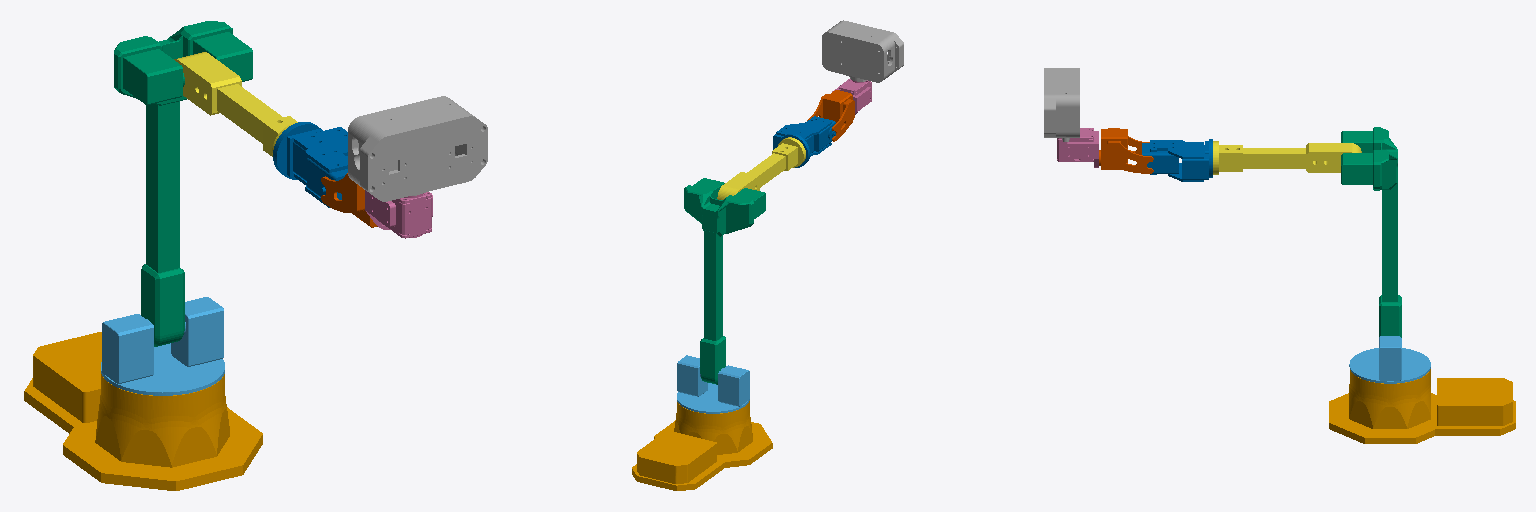
robot.urdf — wx250s_6dof:
<?xml version='1.0' encoding='utf-8'?>
<robot name="wx250s_6dof">
    <link name="430-Base-v3">
        <inertial>
            <origin xyz="2.995596892718282e-07 0.03198516362439753 0.026450259235056835" rpy="0.0 0.0 0.0" />
            <mass value="0.5387615553440656" />
            <inertia ixx="0.001955029708965932" iyy="0.0006455019526522305" izz="0.0021927881018331927" ixy="-1.9751568044998326e-08" iyz="0.00014580866189939276" ixz="5.870050808056935e-10" />
        </inertial>
        <visual name="430-Base-v3">
            <origin xyz="0.0 0.0 0.0" rpy="0.0 0.0 0.0" />
            <geometry>
                <mesh filename="meshes/430-Base-v3.stl" scale="0.001 0.001 0.001" />
            </geometry>
        </visual>
        <collision name="430-Base-v3">
            <origin xyz="0.0 0.0 0.0" rpy="0.0 0.0 0.0" />
            <geometry>
                <mesh filename="meshes/430-Base-v3.stl" scale="0.001 0.001 0.001" />
            </geometry>
        </collision>
    </link>

    <joint name="waist" type="revolute">
        <origin xyz="9.457430695284461e-18 -2.637399261832539e-17 0.06899999988078945" rpy="1.24568280002494e-17 -1.8140360346504614e-19 -1.5707963267948963" />
        <parent link="430-Base-v3" />
        <child link="430-Dual-Shoulder-v2" />
        <axis xyz="-1.5407439555097887e-33 0.0 1.0" />
        <limit effort="10" lower="-6.35" upper="0.00" velocity="3.141592653589793" />
        <dynamics friction="0.1" />
    </joint>

    <transmission name="trans_waist">
        <type>transmission_interface/SimpleTransmission</type>
        <joint name="waist">
            <hardwareInterface>hardware_interface/EffortJointInterface</hardwareInterface>
        </joint>
        <actuator name="waist_motor">
            <mechanicalReduction>1</mechanicalReduction>
        </actuator>
    </transmission>

    <link name="430-Dual-Shoulder-v2">
        <inertial>
            <origin xyz="2.6650681952901293e-15 2.3631306102599427e-10 0.0224742351953325" rpy="0.0 -0.0 -1.1869459682199748e-66" />
            <mass value="0.06870346818902391" />
            <inertia ixx="8.670474618526782e-05" iyy="3.1331865772789617e-05" izz="8.215049958364318e-05" ixy="2.8308109709091504e-17" iyz="2.9976861366066895e-13" ixz="2.3967571416710034e-18" />
        </inertial>
        <visual name="430-Dual-Shoulder-v2">
            <origin xyz="-5.376165769455099e-08 -5.230514688037147e-11 1.192104814862205e-10" rpy="1.8140360346504147e-19 1.2456828000249402e-17 1.5707963267948963" />
            <geometry>
                <mesh filename="meshes/430-Dual-Shoulder-v2.stl" scale="0.001 0.001 0.001" />
            </geometry>
        </visual>
        <collision name="430-Dual-Shoulder-v2">
            <origin xyz="-5.376165769455099e-08 -5.230514688037147e-11 1.192104814862205e-10" rpy="1.8140360346504147e-19 1.2456828000249402e-17 1.5707963267948963" />
            <geometry>
                <mesh filename="meshes/430-Dual-Shoulder-v2.stl" scale="0.001 0.001 0.001" />
            </geometry>
        </collision>
    </link>

    <joint name="shoulder" type="revolute">
        <origin xyz="-6.357687571391029e-35 0.013999999999999999 0.04125" rpy="-1.1869459682199748e-66 -1.5707963267948966 0" />
        <parent link="430-Dual-Shoulder-v2" />
        <child link="UA---6---WX-250-v2" />
        <axis xyz="7.703719777548943e-34 -1.0 -4.898963060357343e-35" />
        <limit effort="20" lower="-1.92" upper="1.70" velocity="3.141592653589793" />
        <dynamics friction="0.1" />
    </joint>

    <transmission name="trans_shoulder">
        <type>transmission_interface/SimpleTransmission</type>
        <joint name="shoulder">
            <hardwareInterface>hardware_interface/EffortJointInterface</hardwareInterface>
        </joint>
        <actuator name="shoulder_motor">
            <mechanicalReduction>1</mechanicalReduction>
        </actuator>
    </transmission>

    <link name="UA---6---WX-250-v2">
        <inertial>
            <origin xyz="0.17871412047632965 -0.013999999796360843 -0.01519758206419477" rpy="0.0 -0.0 0.0" />
            <mass value="0.14814385180189243" />
            <inertia ixx="0.00013892970887386836" iyy="0.0012574373880540075" izz="0.0012836246920317571" ixy="-6.432349401946372e-12" iyz="-2.801941239321463e-13" ixz="0.00015683714963510493" />
        </inertial>
        <visual name="UA---6---WX-250-v2">
            <origin xyz="1.192264242888541e-10 -0.01399999982164303 -0.0002499999999996749" rpy="1.5707963267948966 3.7470027081099087e-16 1.5707963267948966" />
            <geometry>
                <mesh filename="meshes/UA---6---WX-250-v2.stl" scale="0.001 0.001 0.001" />
            </geometry>
        </visual>
        <collision name="UA---6---WX-250-v2">
            <origin xyz="1.192264242888541e-10 -0.01399999982164303 -0.0002499999999996749" rpy="1.5707963267948966 3.7470027081099087e-16 1.5707963267948966" />
            <geometry>
                <mesh filename="meshes/UA---6---WX-250-v2.stl" scale="0.001 0.001 0.001" />
            </geometry>
        </collision>
    </link>

    <joint name="elbow" type="revolute">
        <origin xyz="0.25 -0.027999999999999997 -0.05" rpy="3.141592653589793 -0.0 0.0" />
        <parent link="UA---6---WX-250-v2" />
        <child link="SIMPLIFIED---WXA-250-6DOF-Upper-Forearm-v3" />
        <axis xyz="-7.703719777548943e-34 -1.0 -4.898963095872863e-35" />
        <limit effort="15" lower="-2.13" upper="1.60" velocity="3.141592653589793" />
        <dynamics friction="0.1" />
    </joint>

    <transmission name="trans_elbow">
        <type>transmission_interface/SimpleTransmission</type>
        <joint name="elbow">
            <hardwareInterface>hardware_interface/EffortJointInterface</hardwareInterface>
        </joint>
        <actuator name="elbow_motor">
            <mechanicalReduction>1</mechanicalReduction>
        </actuator>
    </transmission>

    <link name="SIMPLIFIED---WXA-250-6DOF-Upper-Forearm-v3">
        <inertial>
            <origin xyz="-8.438763210492084e-06 -0.01426950605123874 0.07838536036114442" rpy="0.0 -0.0 0.0" />
            <mass value="0.05883498167352428" />
            <inertia ixx="0.00020379318572758876" iyy="0.0002039902083081132" izz="7.0337022610687805e-06" ixy="-1.203201912585835e-09" iyz="7.331415740510169e-07" ixz="1.2251450134340841e-08" />
        </inertial>
        <visual name="SIMPLIFIED---WXA-250-6DOF-Upper-Forearm-v3">
            <origin xyz="1.1923646070499672e-10 -0.014000001310857671 1.1270984145994589e-14" rpy="-1.5707963267948966 -3.7470027081099087e-16 -1.5707963267948966" />
            <geometry>
                <mesh filename="meshes/SIMPLIFIED---WXA-250-6DOF-Upper-Forearm-v3.stl" scale="0.001 0.001 0.001" />
            </geometry>
        </visual>
        <collision name="SIMPLIFIED---WXA-250-6DOF-Upper-Forearm-v3">
            <origin xyz="1.1923646070499672e-10 -0.014000001310857671 1.1270984145994589e-14" rpy="-1.5707963267948966 -3.7470027081099087e-16 -1.5707963267948966" />
            <geometry>
                <mesh filename="meshes/SIMPLIFIED---WXA-250-6DOF-Upper-Forearm-v3.stl" scale="0.001 0.001 0.001" />
            </geometry>
        </collision>
    </link>

    <joint name="forearm_roll" type="revolute">
        <origin xyz="0.0 -0.014499999999999999 0.1718" rpy="-1.5707963267948966 -1.5707963267948966 0" />
        <parent link="SIMPLIFIED---WXA-250-6DOF-Upper-Forearm-v3" />
        <child link="SIMPLIFIED---WXA-250-6DOF-Lower-Forearm-v4" />
        <axis xyz="1.0 1.5407439555097887e-33 -1.513396580661073e-36" />
        <limit effort="2" lower="-1.58" upper="1.51" velocity="3.141592653589793" />
        <dynamics friction="0.1" />
    </joint>

    <transmission name="trans_forearm_roll">
        <type>transmission_interface/SimpleTransmission</type>
        <joint name="forearm_roll">
            <hardwareInterface>hardware_interface/EffortJointInterface</hardwareInterface>
        </joint>
        <actuator name="forearm_roll_motor">
            <mechanicalReduction>1</mechanicalReduction>
        </actuator>
    </transmission>

    <link name="SIMPLIFIED---WXA-250-6DOF-Lower-Forearm-v4">
        <inertial>
            <origin xyz="0.04049826039932967 -7.682751146376177e-10 -0.005328579137066094" rpy="0.0 -1.1869459682199748e-66 0.0" />
            <mass value="0.06645495133905654" />
            <inertia ixx="1.8328072760014774e-05" iyy="5.6830048757085944e-05" izz="5.1754352915411514e-05" ixy="-1.6873325653365967e-12" iyz="1.9845534720772107e-13" ixz="-5.724532589138713e-06" />
        </inertial>
        <visual name="SIMPLIFIED---WXA-250-6DOF-Lower-Forearm-v4">
            <origin xyz="1.1297629498585594e-14 1.192555032503151e-10 -2.3797503342914974e-10" rpy="-1.5707963267948966 1.5707963267948963 0" />
            <geometry>
                <mesh filename="meshes/SIMPLIFIED---WXA-250-6DOF-Lower-Forearm-v4.stl" scale="0.001 0.001 0.001" />
            </geometry>
        </visual>
        <collision name="SIMPLIFIED---WXA-250-6DOF-Lower-Forearm-v4">
            <origin xyz="1.1297629498585594e-14 1.192555032503151e-10 -2.3797503342914974e-10" rpy="-1.5707963267948966 1.5707963267948963 0" />
            <geometry>
                <mesh filename="meshes/SIMPLIFIED---WXA-250-6DOF-Lower-Forearm-v4.stl" scale="0.001 0.001 0.001" />
            </geometry>
        </collision>
    </link>

    <joint name="wrist_angle" type="revolute">
        <origin xyz="0.0782 0.0 0.019100000000000002" rpy="-1.5707963267948168 -0.0 1.5707963267948966" />
        <parent link="SIMPLIFIED---WXA-250-6DOF-Lower-Forearm-v4" />
        <child link="430---Wrist-v3" />
        <axis xyz="7.703719777548943e-34 -1.0 7.97360475549766e-14" />
        <limit effort="5" lower="-1.54" upper="2.12" velocity="3.141592653589793" />
        <dynamics friction="0.1" />
    </joint>

    <transmission name="trans_wrist_angle">
        <type>transmission_interface/SimpleTransmission</type>
        <joint name="wrist_angle">
            <hardwareInterface>hardware_interface/EffortJointInterface</hardwareInterface>
        </joint>
        <actuator name="wrist_angle_motor">
            <mechanicalReduction>1</mechanicalReduction>
        </actuator>
    </transmission>

    <link name="430---Wrist-v3">
        <inertial>
            <origin xyz="0.011634269166982705 0.018999997766633223 -0.043805487109249766" rpy="1.8928476033434378e-79 -0.0 0.0" />
            <mass value="0.03273465768623896" />
            <inertia ixx="9.417831145702455e-06" iyy="1.0258247001192905e-05" izz="9.811847042031294e-06" ixy="-3.805895780248961e-14" iyz="1.5098083439683308e-13" ixz="6.408316618065543e-07" />
        </inertial>
        <visual name="430---Wrist-v3">
            <origin xyz="1.1927461684990703e-10 0.019000000237985357 -5.719869022868807e-15" rpy="1.5707963267948966 8.01107478257876e-14 1.5707963267948966" />
            <geometry>
                <mesh filename="meshes/430---Wrist-v3.stl" scale="0.001 0.001 0.001" />
            </geometry>
        </visual>
        <collision name="430---Wrist-v3">
            <origin xyz="1.1927461684990703e-10 0.019000000237985357 -5.719869022868807e-15" rpy="1.5707963267948966 8.01107478257876e-14 1.5707963267948966" />
            <geometry>
                <mesh filename="meshes/430---Wrist-v3.stl" scale="0.001 0.001 0.001" />
            </geometry>
        </collision>
    </link>

    <joint name="camera_roll" type="revolute">
        <origin xyz="-1.7053025658242404e-15 0.01899999999999482 -0.06500000000000149" rpy="1.5707963267948966 1.5707963267948128 0" />
        <parent link="430---Wrist-v3" />
        <child link="gripper_motor" />
        <axis xyz="1.0 1.5407439555097887e-33 -1.513396580661073e-36" />
        <limit effort="1" lower="-2.78" upper="2.99" velocity="3.141592653589793" />
    </joint>

    <transmission name="trans_camera_roll">
        <type>transmission_interface/SimpleTransmission</type>
        <joint name="camera_roll">
            <hardwareInterface>hardware_interface/EffortJointInterface</hardwareInterface>
        </joint>
        <actuator name="camera_roll_motor">
            <mechanicalReduction>1</mechanicalReduction>
        </actuator>
    </transmission>

    <link name="gripper_motor">
        <inertial>
            <origin xyz="0.02550615797971929 0.016672511283617623 -4.2103839541376975e-06" rpy="0.0 -1.1869459682199748e-66 0.0" />
            <mass value="0.03546994534296931" />
            <inertia ixx="7.502830793607029e-06" iyy="1.1170533081620096e-05" izz="1.1262022792611279e-05" ixy="-5.929845776726436e-07" iyz="2.5914642905866588e-09" ixz="2.6963070907911737e-09" />
        </inertial>
        <visual name="gripper_motor">
            <origin xyz="0.04125000000000334 -0.03674999988072394 1.907738651149571e-09" rpy="-1.5707963267948963 -1.5707963267947336 0" />
            <geometry>
                <mesh filename="meshes/gripper_motor.stl" scale="0.001 0.001 0.001" />
            </geometry>
        </visual>
        <collision name="gripper_motor">
            <origin xyz="0.04125000000000334 -0.03674999988072394 1.907738651149571e-09" rpy="-1.5707963267948963 -1.5707963267947336 0" />
            <geometry>
                <mesh filename="meshes/gripper_motor.stl" scale="0.001 0.001 0.001" />
            </geometry>
        </collision>
    </link>

    <joint name="camera_yaw" type="revolute">
        <origin xyz="0.04125 0.03725000000000001 0.0" rpy="-1.5707963267948966 9.860300543221678e-33 -4.622231866529366e-33" />
        <parent link="gripper_motor" />
        <child link="middlecamera" />
        <axis xyz="-6.162975822039155e-33 -2.465190328815662e-32 0.9999999999999999" />
        <limit effort="1" lower="-3.10" upper="3.07" velocity="3.141592653589793" />
    </joint>

    <transmission name="trans_camera_yaw">
        <type>transmission_interface/SimpleTransmission</type>
        <joint name="camera_yaw">
            <hardwareInterface>hardware_interface/EffortJointInterface</hardwareInterface>
        </joint>
        <actuator name="camera_yaw_motor">
            <mechanicalReduction>1</mechanicalReduction>
        </actuator>
    </transmission>

    <link name="middlecamera">
        <inertial>
            <origin xyz="0.005820671726030966 0.000908728412947377 0.03786676815384169" rpy="0.0 -0.0 -1.368455531567204e-48" />
            <mass value="0.06867323298593662" />
            <inertia ixx="9.9054784136016e-05" iyy="4.5944135524920285e-05" izz="8.780503868819654e-05" ixy="3.6319096036703584e-07" iyz="3.2100086384270814e-07" ixz="-7.883848072223753e-07" />
        </inertial>
        <visual name="middlecamera">
            <origin xyz="-0.10624999903300995 -2.9568465983315084e-09 -0.0372499994503248" rpy="1.2022831187600907e-16 -1.0307777736727744e-16 1.5707963267949034" />
            <geometry>
                <mesh filename="meshes/middlecamera.stl" scale="0.001 0.001 0.001" />
            </geometry>
        </visual>
        <collision name="middlecamera">
            <origin xyz="-0.10624999903300995 -2.9568465983315084e-09 -0.0372499994503248" rpy="1.2022831187600907e-16 -1.0307777736727744e-16 1.5707963267949034" />
            <geometry>
                <mesh filename="meshes/middlecamera.stl" scale="0.001 0.001 0.001" />
            </geometry>
        </collision>
    </link>
</robot>

--- Render facts (derived) ---
The picture shows the robot from 3 angles, left to right: view 1: azimuth 30°, elevation 25°; view 2: azimuth 150°, elevation 25°; view 3: azimuth 270°, elevation 25°; orthographic projection.
Robot: wx250s_6dof — 8 links, 7 joints (7 revolute); root link 430-Base-v3; default pose: all joints at 0.
Links seen in each view (by area): view 1: 430-Base-v3, UA---6---WX-250-v2, middlecamera, 430-Dual-Shoulder-v2, SIMPLIFIED---WXA-250-6DOF-Upper-Forearm-v3, SIMPLIFIED---WXA-250-6DOF-Lower-Forearm-v4, gripper_motor, 430---Wrist-v3; view 2: 430-Base-v3, UA---6---WX-250-v2, middlecamera, 430-Dual-Shoulder-v2, SIMPLIFIED---WXA-250-6DOF-Upper-Forearm-v3, SIMPLIFIED---WXA-250-6DOF-Lower-Forearm-v4, 430---Wrist-v3, gripper_motor; view 3: 430-Base-v3, UA---6---WX-250-v2, SIMPLIFIED---WXA-250-6DOF-Upper-Forearm-v3, 430-Dual-Shoulder-v2, middlecamera, SIMPLIFIED---WXA-250-6DOF-Lower-Forearm-v4, 430---Wrist-v3, gripper_motor.
Boxes of the visible links, x1,y1,x2,y2 form: 430-Base-v3: (24,332,262,490); UA---6---WX-250-v2: (114,21,252,346); middlecamera: (348,96,487,201); 430-Dual-Shoulder-v2: (101,297,224,395); SIMPLIFIED---WXA-250-6DOF-Upper-Forearm-v3: (174,52,297,156); SIMPLIFIED---WXA-250-6DOF-Lower-Forearm-v4: (273,122,347,207); gripper_motor: (365,190,432,238); 430---Wrist-v3: (321,173,377,227); 430-Base-v3: (632,401,772,490); UA---6---WX-250-v2: (684,178,765,384); middlecamera: (822,20,903,82); 430-Dual-Shoulder-v2: (677,355,749,413); SIMPLIFIED---WXA-250-6DOF-Upper-Forearm-v3: (717,137,805,199); SIMPLIFIED---WXA-250-6DOF-Lower-Forearm-v4: (773,116,835,167); 430---Wrist-v3: (807,90,854,141); gripper_motor: (832,79,871,114); 430-Base-v3: (1329,369,1515,443); UA---6---WX-250-v2: (1341,127,1401,337); SIMPLIFIED---WXA-250-6DOF-Upper-Forearm-v3: (1213,141,1361,174); 430-Dual-Shoulder-v2: (1349,336,1430,383); middlecamera: (1044,68,1079,141); SIMPLIFIED---WXA-250-6DOF-Lower-Forearm-v4: (1142,139,1212,181); 430---Wrist-v3: (1099,128,1153,173); gripper_motor: (1057,128,1098,167).
Bounding box of the posed robot: 0.1531 × 0.5903 × 0.4665 m (x, y, z).
Meshes: 8 distinct files referenced, 8 mesh visuals loaded (8 binary STL).
